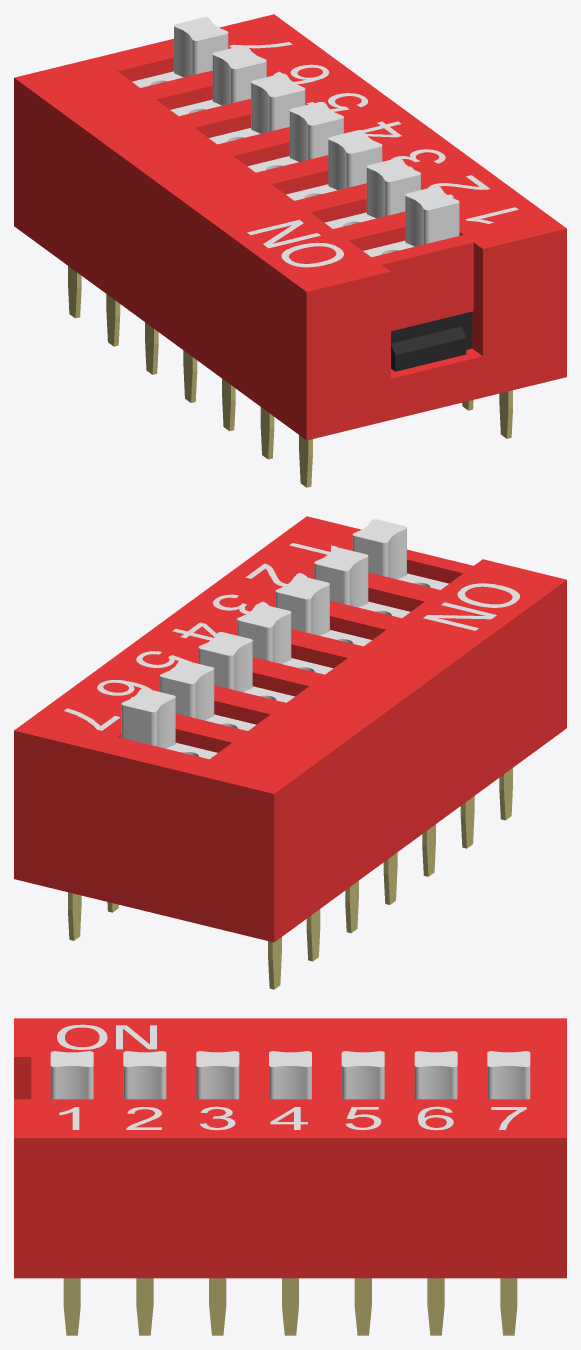
The picture shows the model from 3 angles, top to bottom: view 1: azimuth 30°, elevation 25°; view 2: azimuth 150°, elevation 25°; view 3: azimuth 270°, elevation 25°; orthographic projection. The views are drawn at different scales.
Parts seen in each view (by area): view 1: =>[0:1:1:3], =>[0:1:1:2]; view 2: =>[0:1:1:3], =>[0:1:1:2]; view 3: =>[0:1:1:3], =>[0:1:1:2].
Part boxes in pixels (left/top/right/bottom): =>[0:1:1:3]: left=14, top=14, right=566, bottom=487; =>[0:1:1:2]: left=229, top=42, right=518, bottom=267; =>[0:1:1:3]: left=14, top=516, right=566, bottom=989; =>[0:1:1:2]: left=64, top=543, right=519, bottom=730; =>[0:1:1:3]: left=14, top=1018, right=566, bottom=1335; =>[0:1:1:2]: left=57, top=1024, right=526, bottom=1130.
Bounding box in the file's own units: 0.0099 × 0.0093 × 0.0193.
